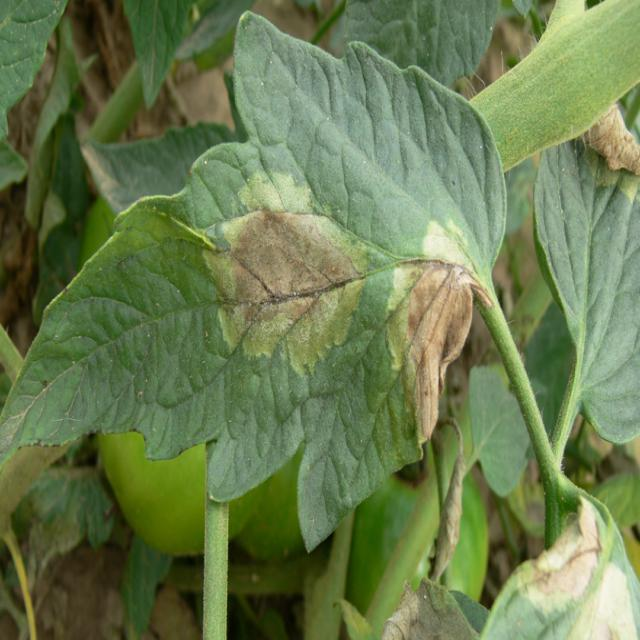Late_blight: (199, 170, 370, 375), (384, 218, 501, 452), (380, 450, 481, 640), (508, 496, 635, 640), (572, 107, 640, 200)
